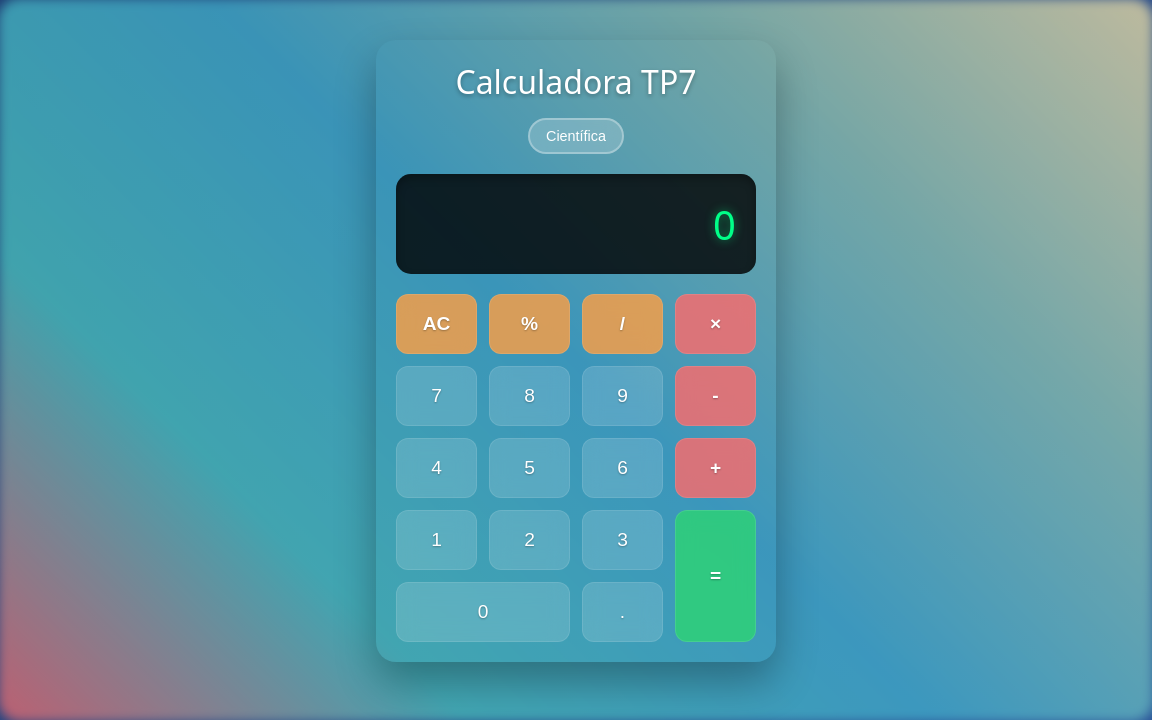
clears display when AC is pressed
# Input a number first
Click the button "7" at (436, 396), box [396, 366, 477, 426]
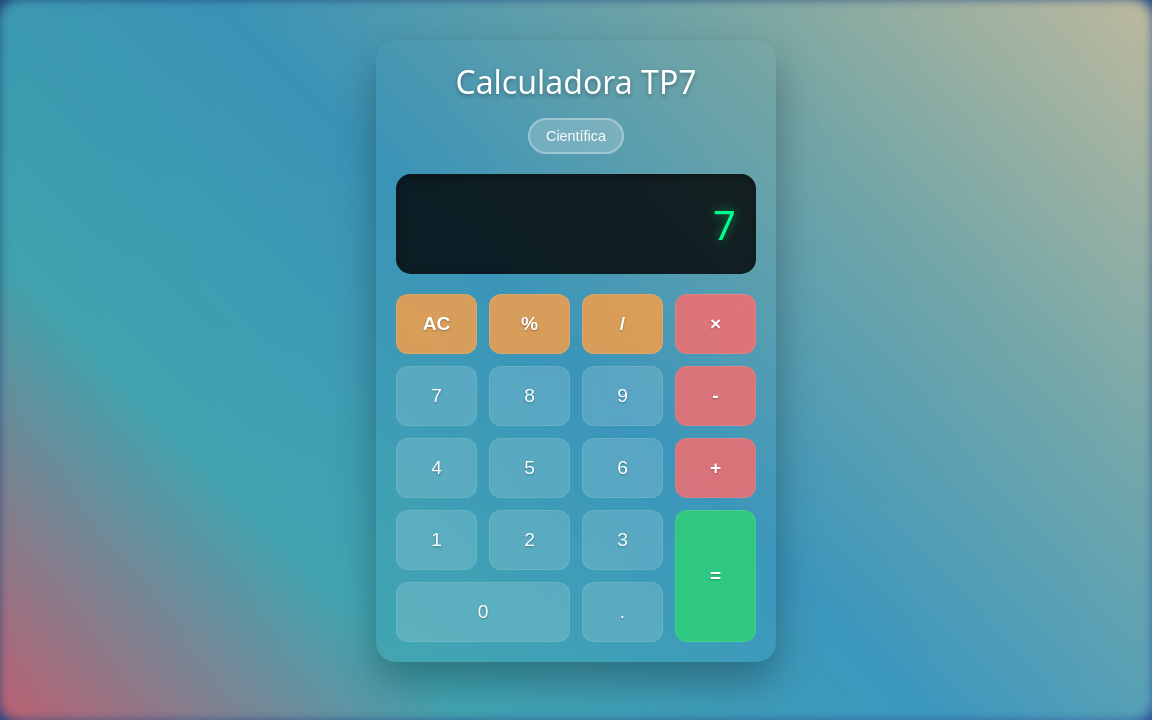
Result: the field with test id "display" reads "7" at [713, 196, 736, 252]
# Press AC
Click the button "AC" at (436, 324), box [396, 294, 477, 354]
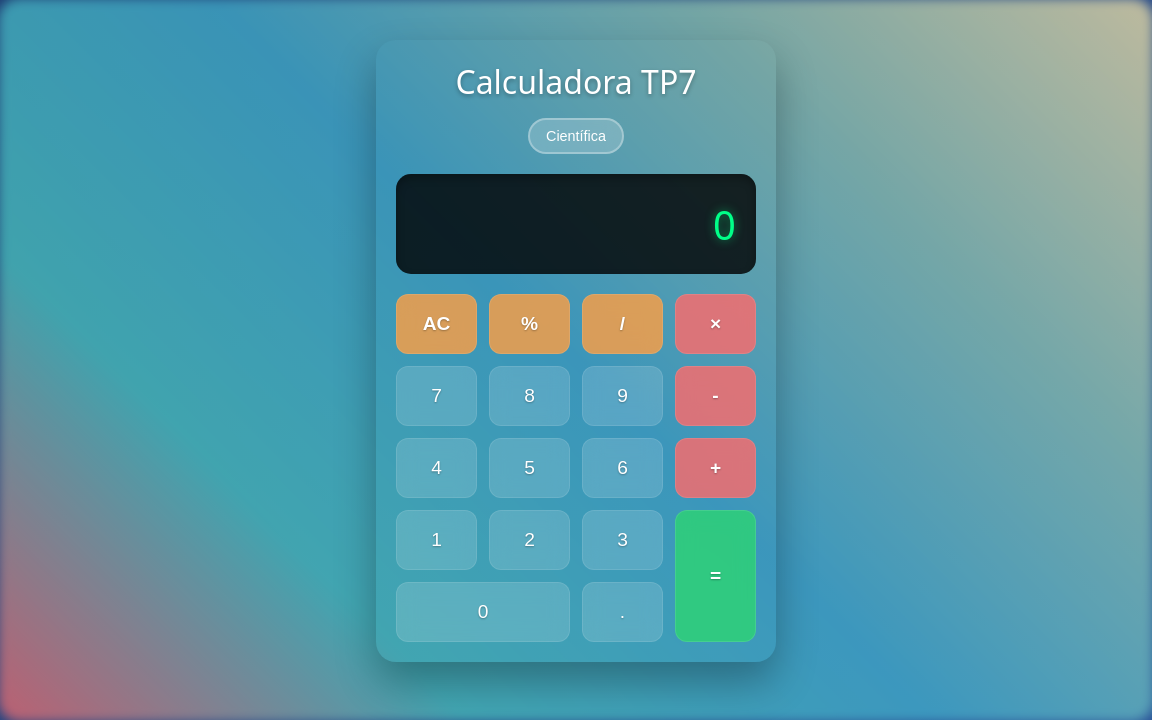
Result: the field with test id "display" reads "0" at [713, 196, 736, 252]
